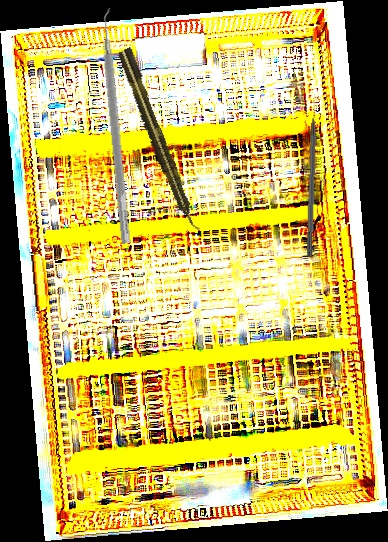Handpiece: (115, 46, 203, 235)
Hook Surgical: (305, 93, 320, 257)
Spatula Surgical: (96, 7, 142, 244)
